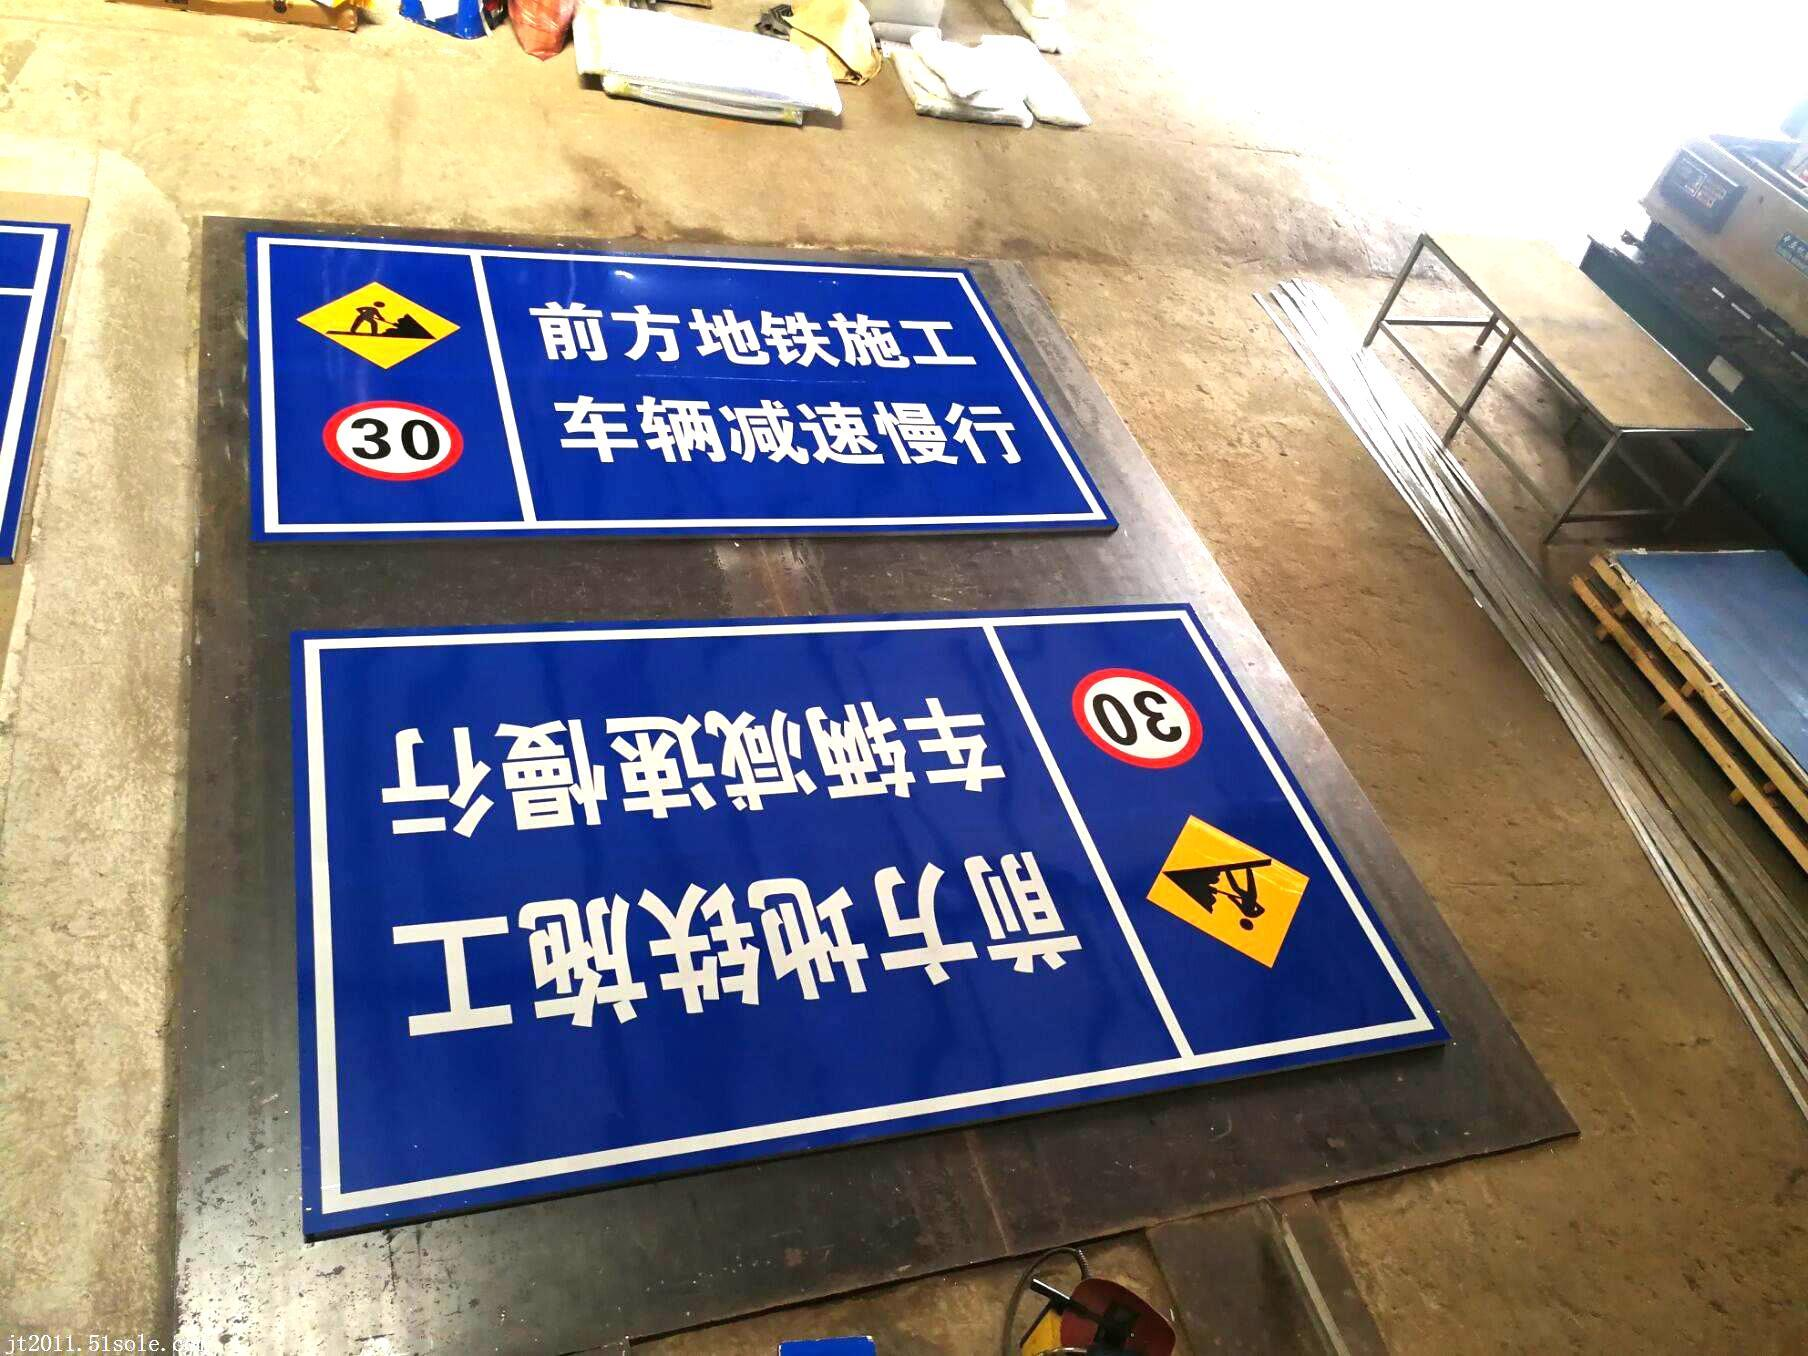sign: (298, 598, 1315, 1214), (236, 218, 1106, 538)
